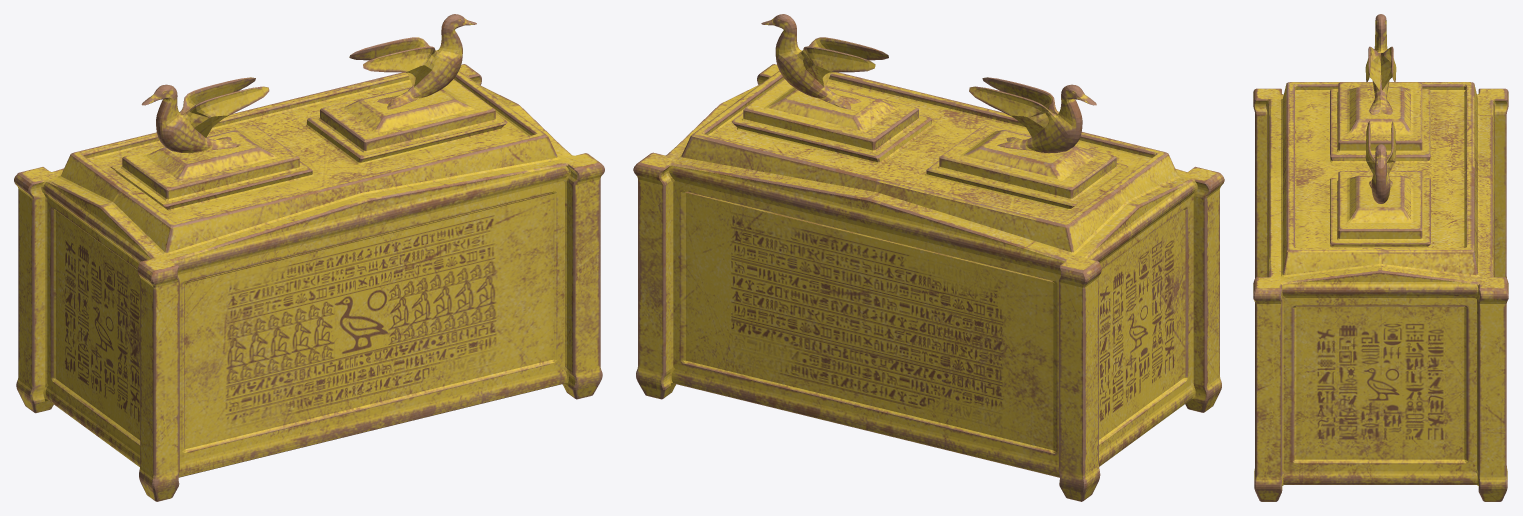
File: artifact.glb
The picture shows the model from 3 angles, left to right: view 1: azimuth 30°, elevation 25°; view 2: azimuth 150°, elevation 25°; view 3: azimuth 270°, elevation 25°; orthographic projection. The views are drawn at different scales.
Visible parts, largest first — view 1: Object_2; view 2: Object_2; view 3: Object_2.
Boxes of the visible parts, x1,y1,x2,y2 form: Object_2: (14, 14, 604, 501); Object_2: (633, 14, 1224, 501); Object_2: (1253, 14, 1508, 501).
Size of the model in its own units: 432 by 320 by 229.
Materials: 1 (1 with a texture image).
